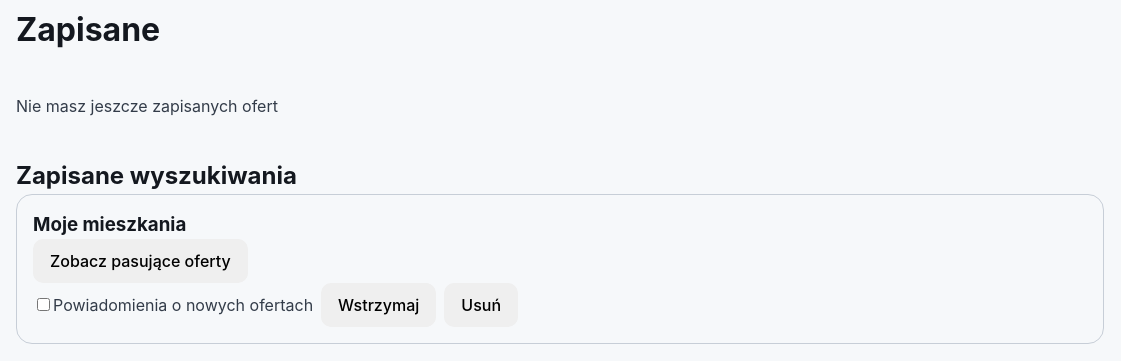
saved page privacy and stored-query validity › accepts saved-search DELETE204 and re-reads list
Click the button "Usuń" at (481, 305), box [444,283,518,327]
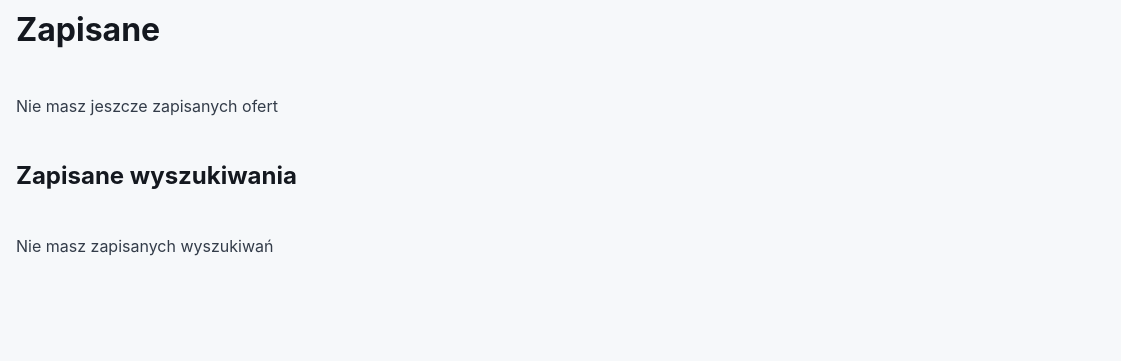
Expected: the text "Nie masz zapisanych wyszukiwań" is shown, [16,236,274,256]
Expected: the heading "Moje mieszkania" is gone
